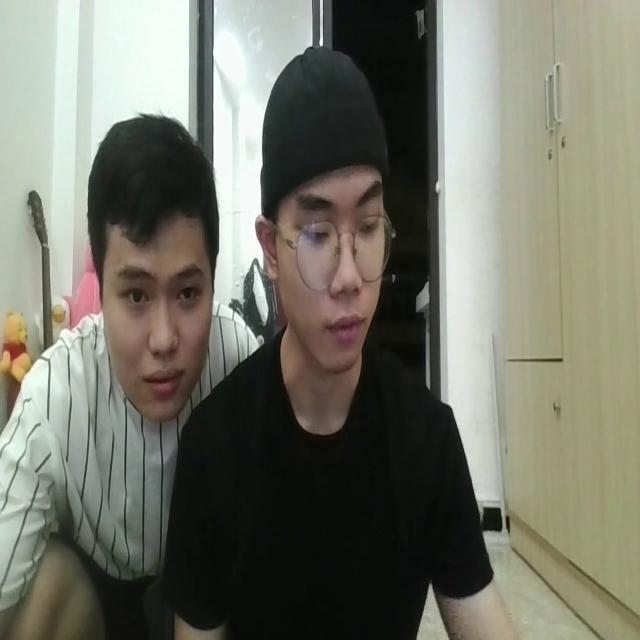extra_person: (44, 98, 224, 574)
student: (206, 52, 467, 640)
